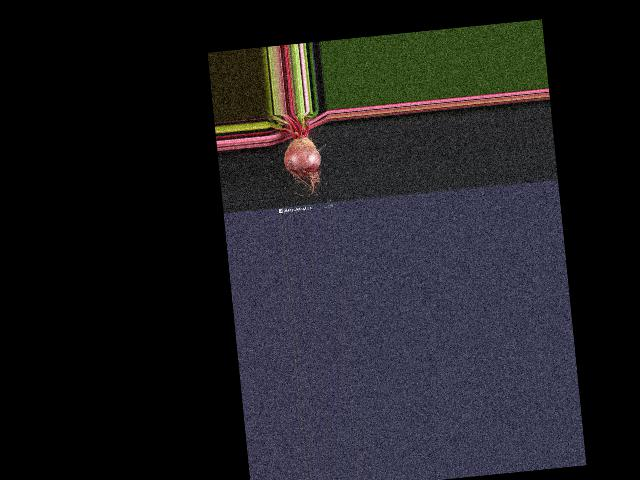beet: (266, 110, 325, 203)
